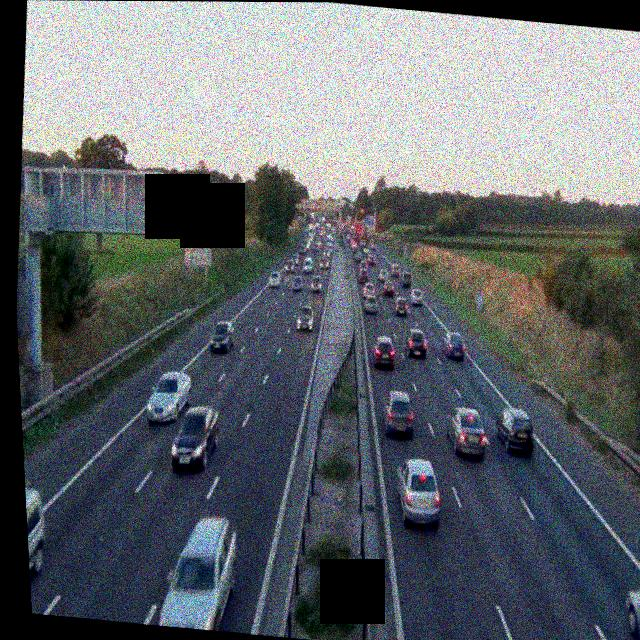car: (152, 511, 245, 632), (168, 401, 223, 472), (392, 458, 444, 527), (25, 483, 51, 607), (143, 368, 195, 427), (443, 407, 490, 458), (493, 405, 537, 455), (381, 390, 418, 437), (620, 587, 640, 640), (208, 319, 237, 354), (402, 324, 428, 360), (371, 335, 398, 369), (439, 330, 467, 362), (294, 305, 314, 332), (394, 294, 411, 316), (364, 292, 379, 314), (409, 285, 425, 305), (309, 273, 324, 292), (381, 278, 396, 297), (361, 279, 376, 298), (266, 270, 280, 287), (290, 274, 304, 291), (303, 257, 315, 274), (401, 270, 413, 287), (284, 258, 296, 273), (377, 268, 389, 282), (318, 256, 329, 271)
truck: (352, 220, 366, 243)
